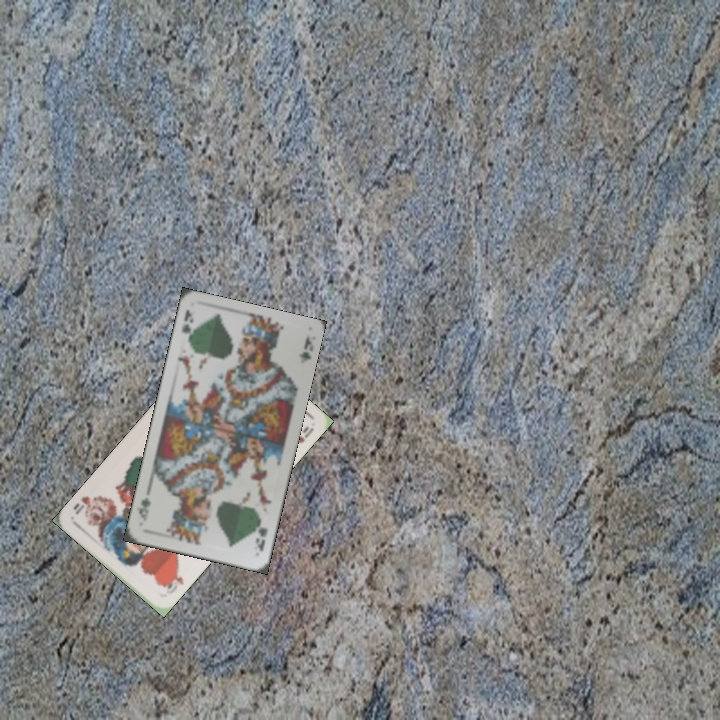GK: (177, 305, 196, 346), (252, 523, 271, 554)
HO: (160, 566, 186, 592)
